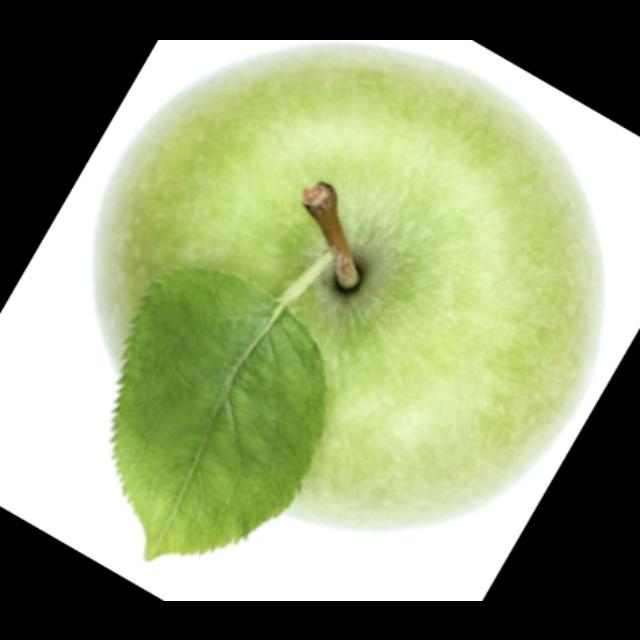Apel Segar: (75, 39, 615, 540)
